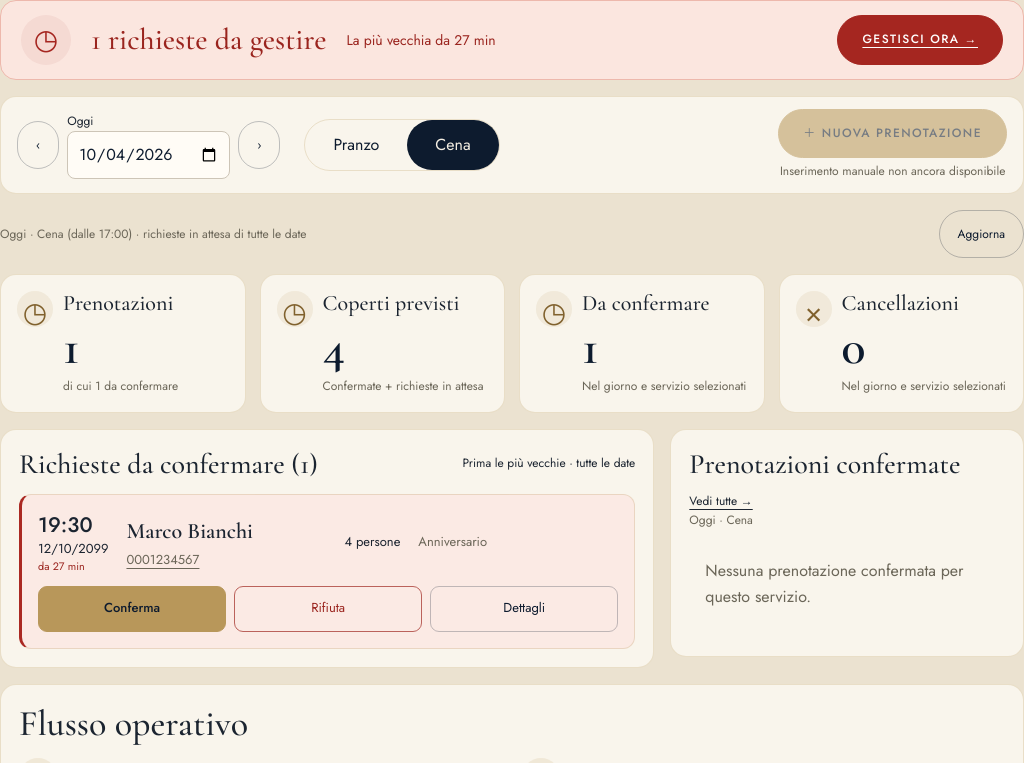
Test: mostra dettagli e contatto senza assegnazione
Click the button "Dettagli" at (524, 609), box [430,586,618,632]
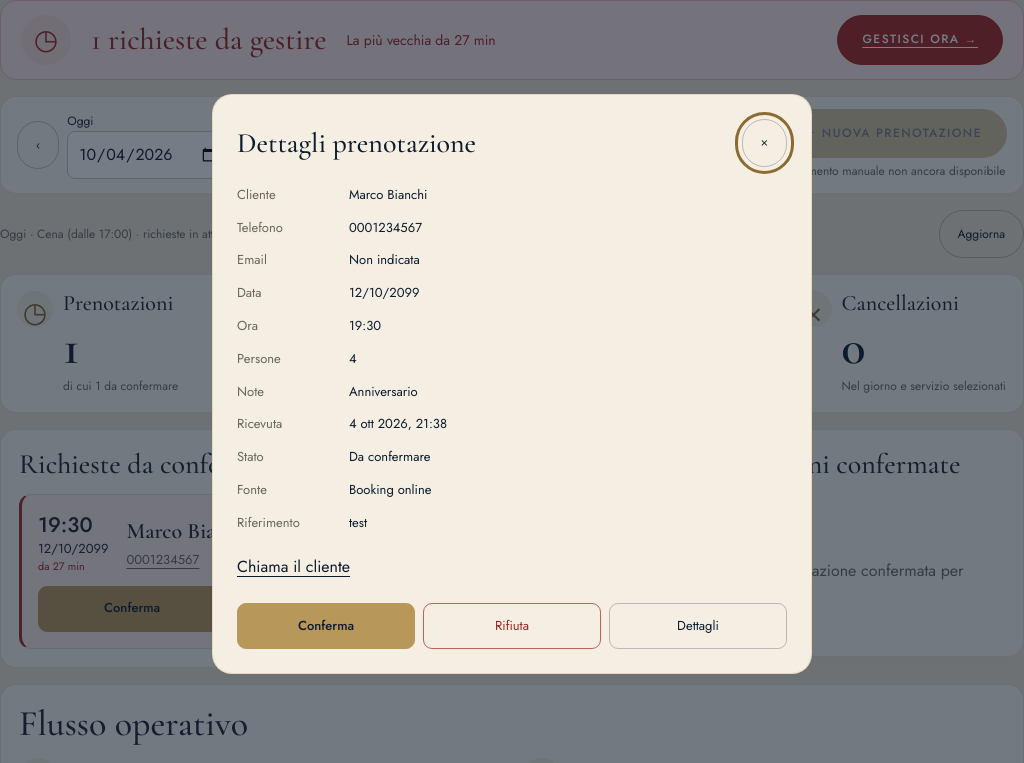
Check: the dialog "Dettagli prenotazione" is shown, box [212,94,812,674]
